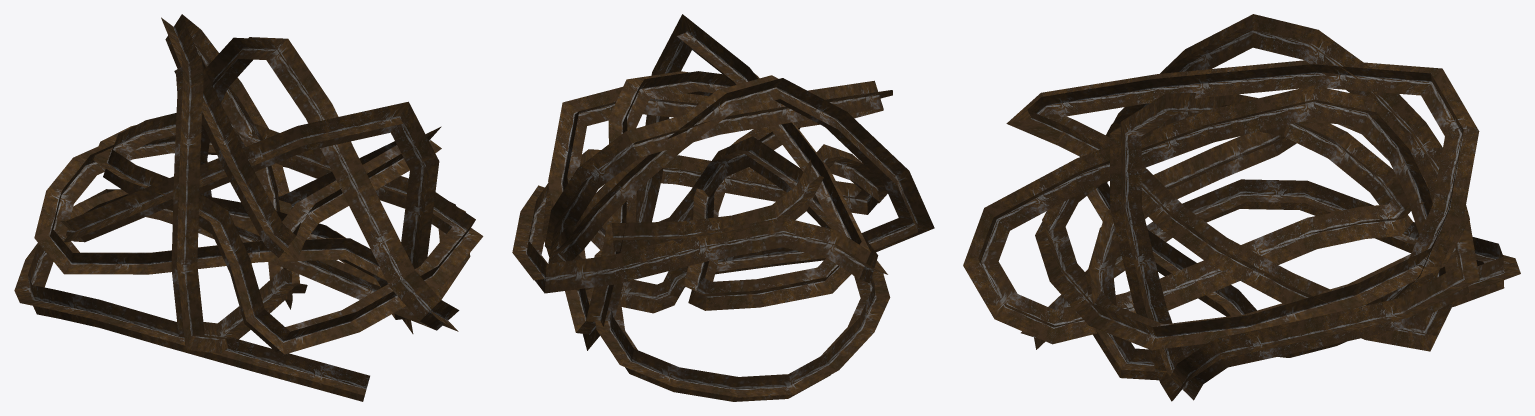
Rendered from Barb_wire_Roll_01.FBX.
The picture shows the model from 3 angles, left to right: view 1: azimuth 30°, elevation 25°; view 2: azimuth 150°, elevation 25°; view 3: azimuth 270°, elevation 25°; orthographic projection. The views are drawn at different scales.
Parts seen in each view (by area): view 1: Barb_wire_Roll_01; view 2: Barb_wire_Roll_01; view 3: Barb_wire_Roll_01.
Part boxes in pixels (<box>): Barb_wire_Roll_01: <box>14,14,483,401</box>; Barb_wire_Roll_01: <box>512,14,934,401</box>; Barb_wire_Roll_01: <box>963,14,1520,401</box>.
Size of the model in its own units: 149 by 98.72 by 170.
